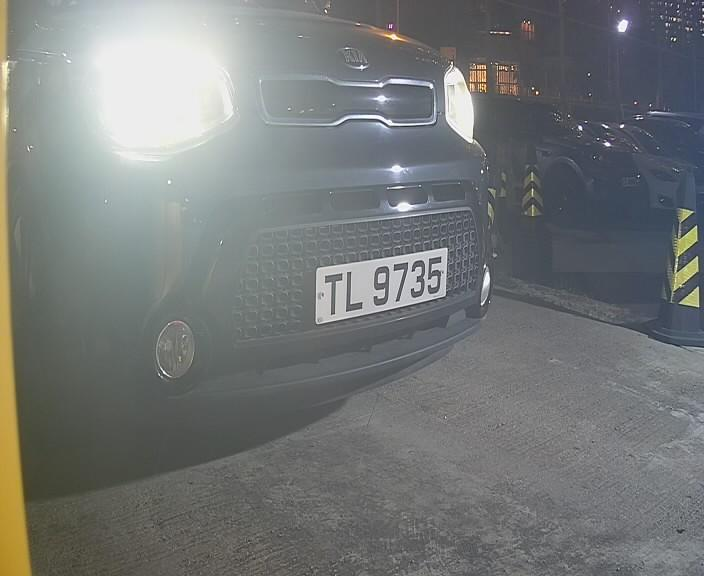License Plate: (302, 237, 456, 327)
